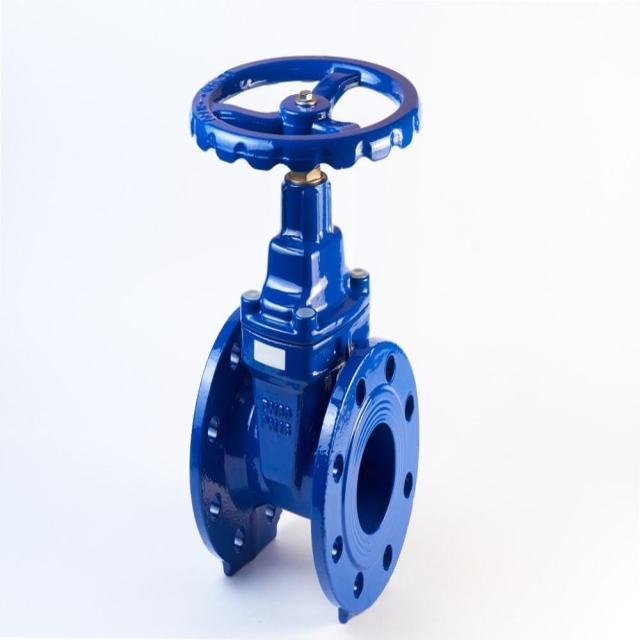Wheel Handle Valve Threaded: (164, 40, 428, 204)
